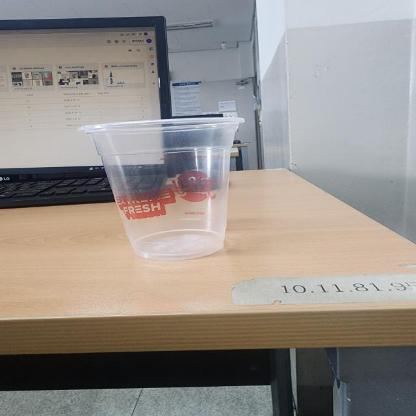Plastic Cup: (80, 115, 246, 259)
